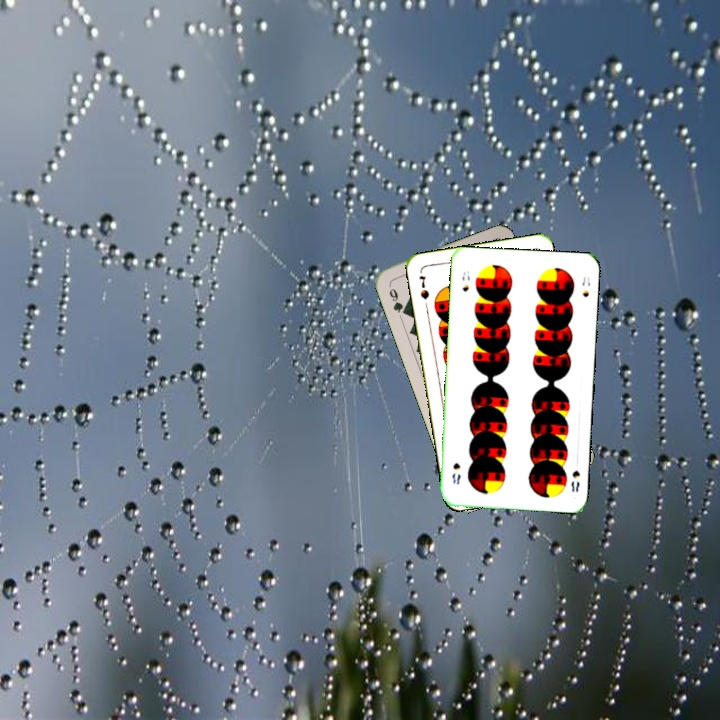G9: (385, 280, 409, 317)
S7: (415, 272, 432, 302)
S8: (567, 466, 582, 495), (458, 267, 472, 294)
